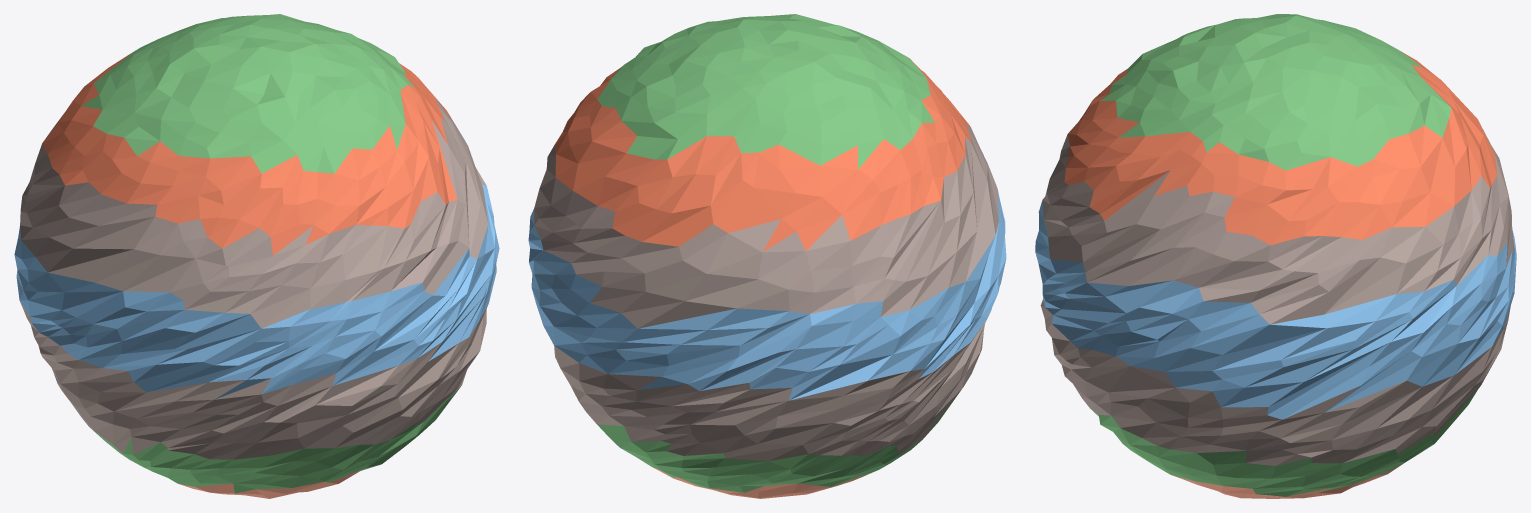
File: Planet_23.glb
The picture shows the model from 3 angles, left to right: view 1: azimuth 30°, elevation 25°; view 2: azimuth 150°, elevation 25°; view 3: azimuth 270°, elevation 25°; orthographic projection.
Visible parts, largest first — view 1: Planet_23; view 2: Planet_23; view 3: Planet_23.
Boxes of the visible parts, x1,y1,x2,y2 form: Planet_23: (14, 14, 499, 498); Planet_23: (528, 14, 1006, 498); Planet_23: (1035, 14, 1516, 498).
Size of the model in its own units: 19.83 by 20.06 by 19.91.
Materials: 1 (1 with a texture image).
